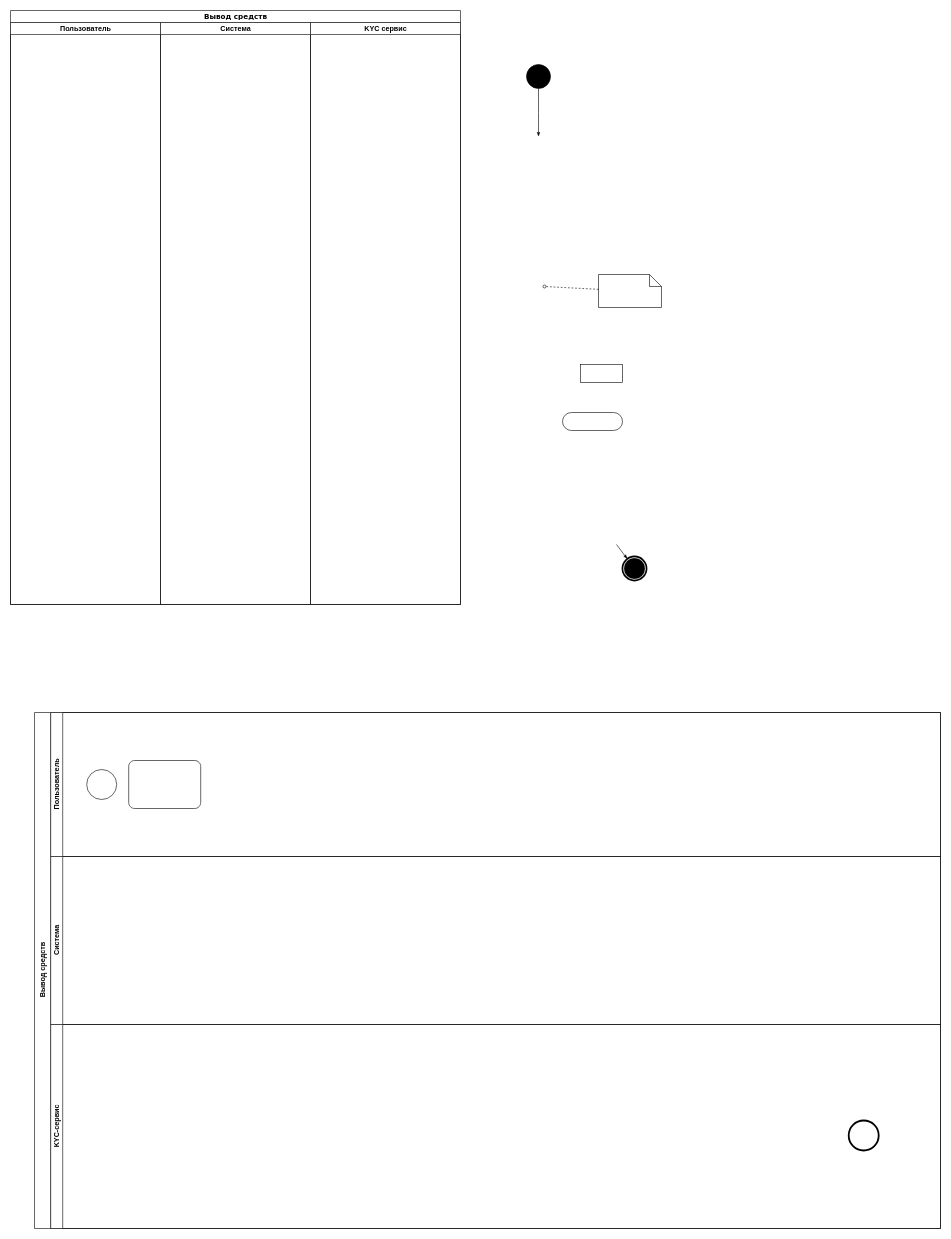
Some shapes in this 951 by 1239 pixel diagram are drawn without their labels. Here are the shapes that lost their labels. From the top down, the centre of each, then its label:
point 630,291: Note
point 601,373: Object
point 592,421: Action
point 164,784: Инициирует вывод средств
